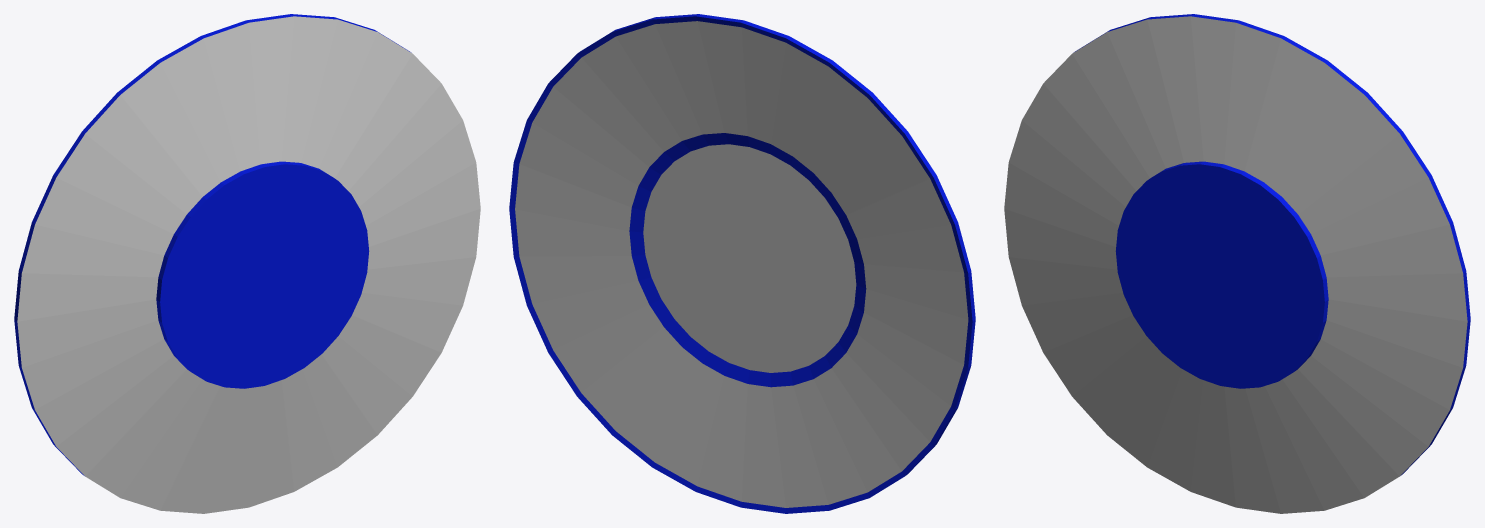
The model's file is plate.fbx.
3 renders of one model, left to right at view 1: azimuth 30°, elevation 25°; view 2: azimuth 150°, elevation 25°; view 3: azimuth 330°, elevation 25°, orthographic.
Parts seen in each view (by area): view 1: Cylinder; view 2: Cylinder; view 3: Cylinder.
Boxes of the visible parts, x1,y1,x2,y2 form: Cylinder: (14,14,480,513); Cylinder: (509,14,975,513); Cylinder: (1004,14,1470,513).
Size of the model in its own units: 200 by 200 by 14.01.
